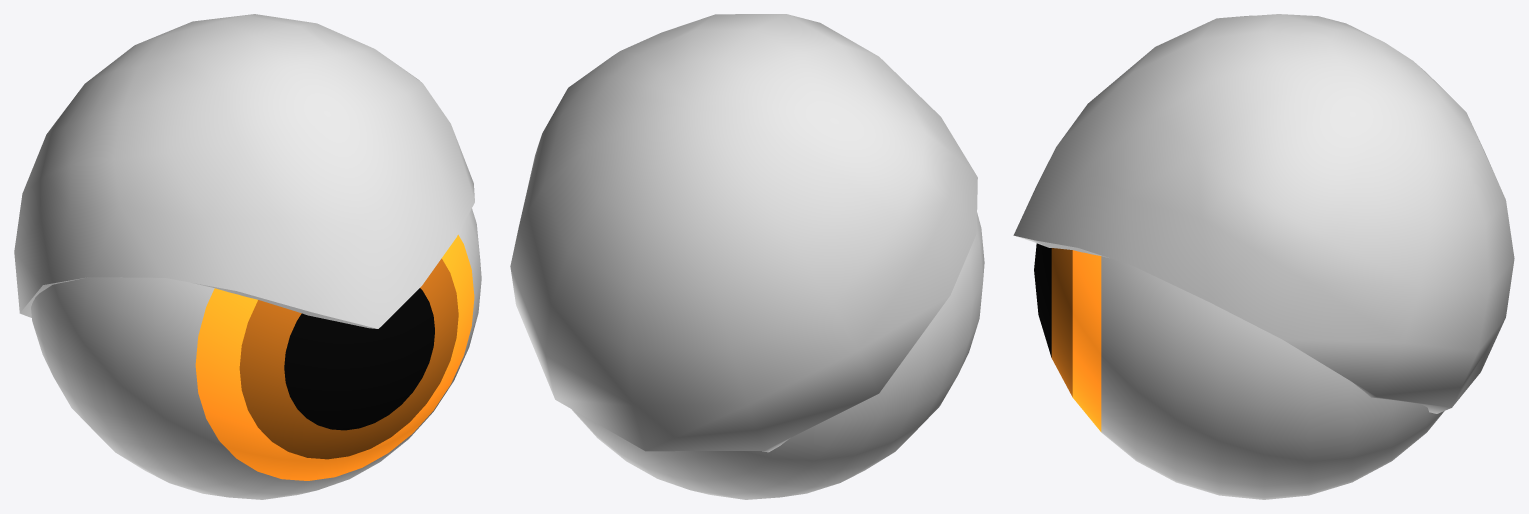
File: big_eye.glb
3 views of the same model, side by side, from view 1: azimuth 30°, elevation 25°; view 2: azimuth 150°, elevation 25°; view 3: azimuth 270°, elevation 25° (orthographic).
Parts seen in each view (by area): view 1: eyelid, eye.001; view 2: eyelid, eye.001; view 3: eyelid, eye.001.
Part boxes in pixels (bbox=[...]): eyelid: bbox=[14, 14, 474, 328]; eye.001: bbox=[31, 208, 481, 499]; eyelid: bbox=[510, 14, 977, 452]; eye.001: bbox=[571, 212, 984, 499]; eyelid: bbox=[1013, 14, 1514, 413]; eye.001: bbox=[1034, 243, 1444, 499].
Size of the model in its own units: 10.62 by 11.07 by 11.25.
Materials: 2 (1 with a texture image).
